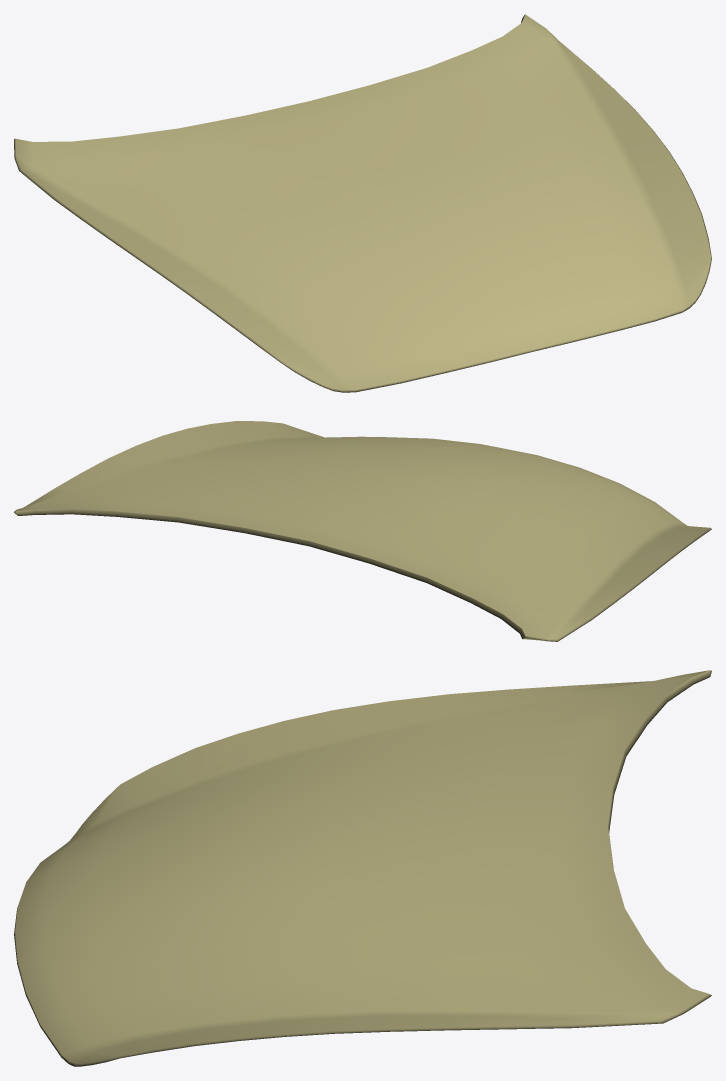
The model's file is G37_Hood_01_Duco.fbx.
3 renders of one model, top to bottom at view 1: azimuth 30°, elevation 25°; view 2: azimuth 150°, elevation 25°; view 3: azimuth 270°, elevation 25°, orthographic. The views are drawn at different scales.
Parts seen in each view (by area): view 1: G37_Hood_01_Duco; view 2: G37_Hood_01_Duco; view 3: G37_Hood_01_Duco.
Part boxes in pixels (x1,y1,x2,y2): G37_Hood_01_Duco: [14, 14, 711, 392]; G37_Hood_01_Duco: [14, 421, 711, 641]; G37_Hood_01_Duco: [14, 670, 711, 1066].
Size of the model in its own units: 150 by 26.09 by 130.
